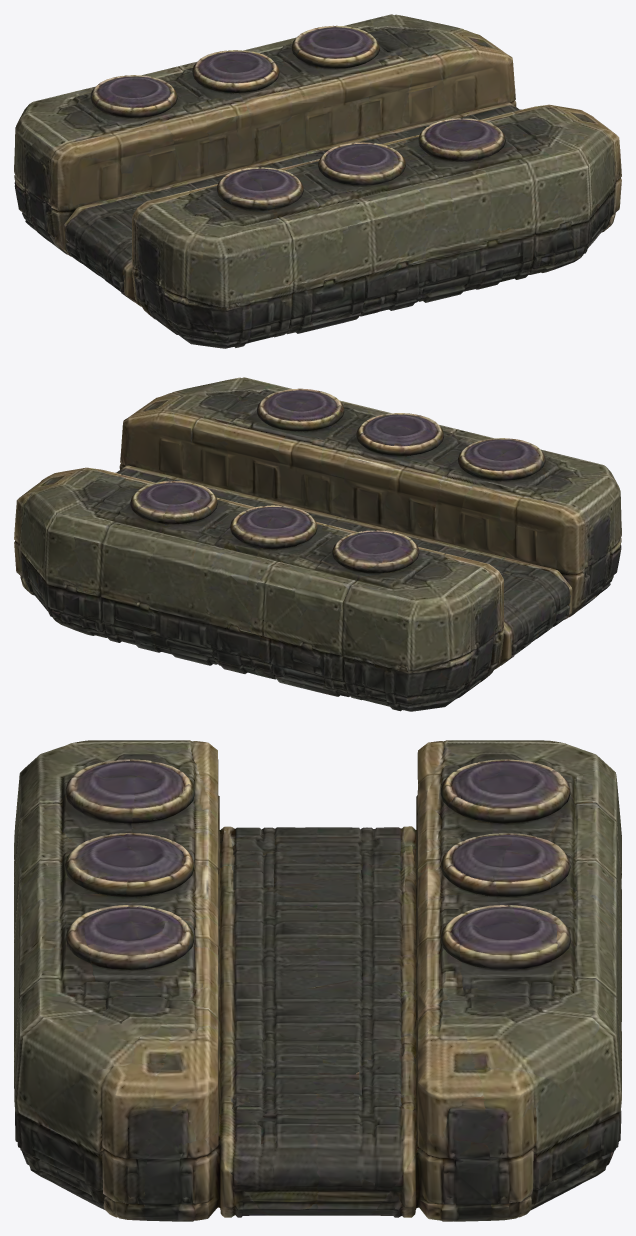
File: arc-nest-lean.glb
3 views of the same model, one above another, from view 1: azimuth 30°, elevation 25°; view 2: azimuth 150°, elevation 25°; view 3: azimuth 270°, elevation 25° (orthographic). The views are drawn at different scales.
Visible parts, largest first — view 1: chassis; view 2: chassis; view 3: chassis.
Part boxes in pixels (x1=…): chassis: x1=14, y1=14, x2=621, y2=348; chassis: x1=14, y1=377, x2=621, y2=711; chassis: x1=14, y1=740, x2=621, y2=1221.
Size of the model in its own units: 0.9899 by 0.2744 by 0.7516.
1 material, 1 textured.
